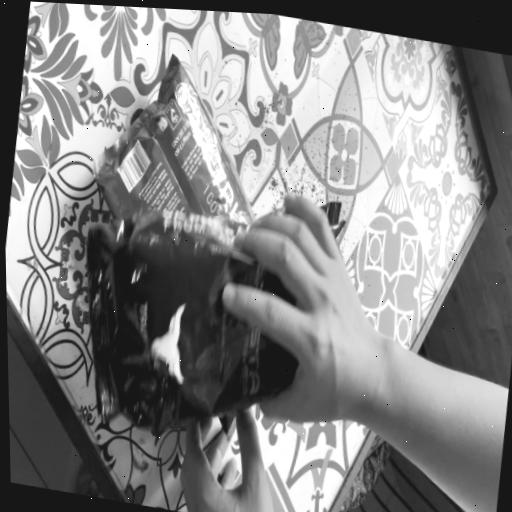cafe_hat: (86, 210, 296, 429)
cafe_xay: (91, 55, 253, 223)
